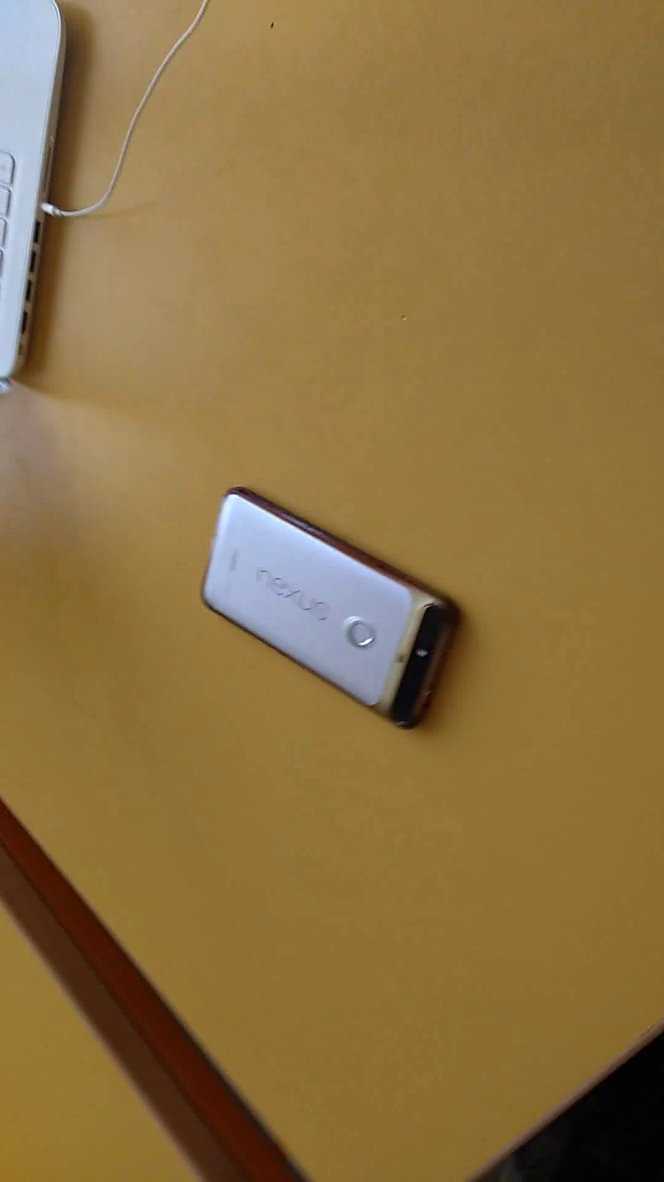phone: (187, 475, 481, 753)
